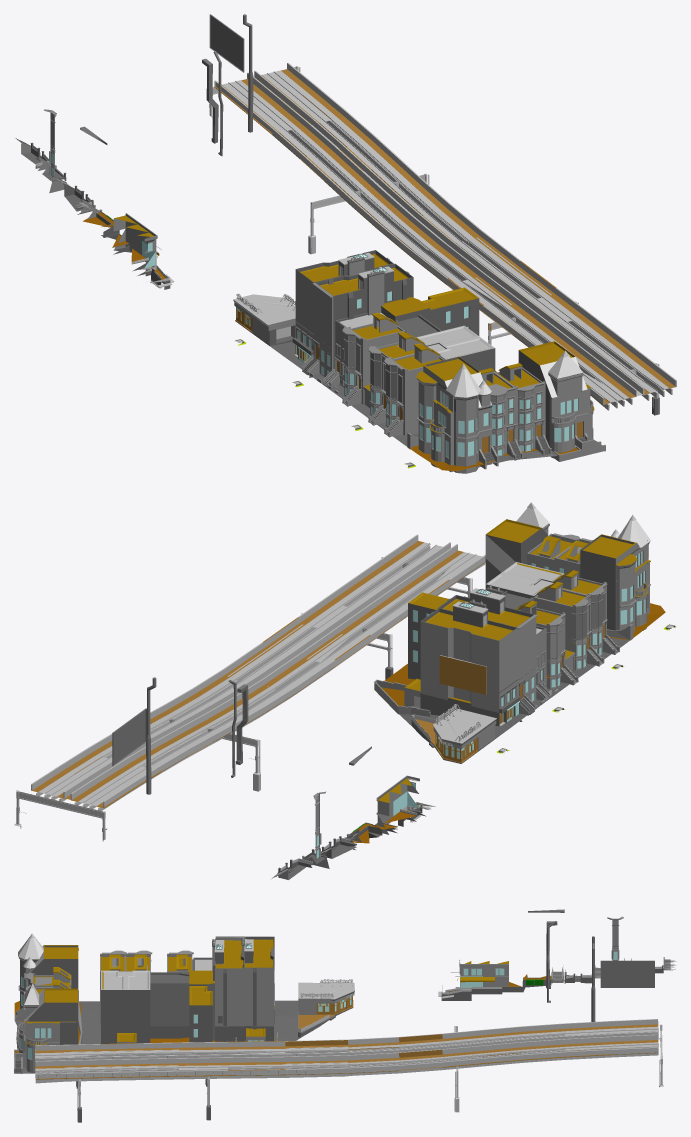
Rendered from brook_n_3.FBX.
3 views of the same model, one above another, from view 1: azimuth 30°, elevation 25°; view 2: azimuth 150°, elevation 25°; view 3: azimuth 270°, elevation 25° (orthographic). The views are drawn at different scales.
Parts seen in each view (by area): view 1: unnamed, null; view 2: unnamed, null; view 3: unnamed, null.
Boxes of the visible parts, bbox=[...] form: unnamed: bbox=[15, 14, 605, 473]; null: bbox=[408, 230, 676, 415]; unnamed: bbox=[14, 502, 676, 879]; null: bbox=[224, 534, 485, 697]; unnamed: bbox=[14, 909, 676, 1112]; null: bbox=[34, 1039, 348, 1122].
Size of the model in its own units: 72.83 by 44.63 by 180.
